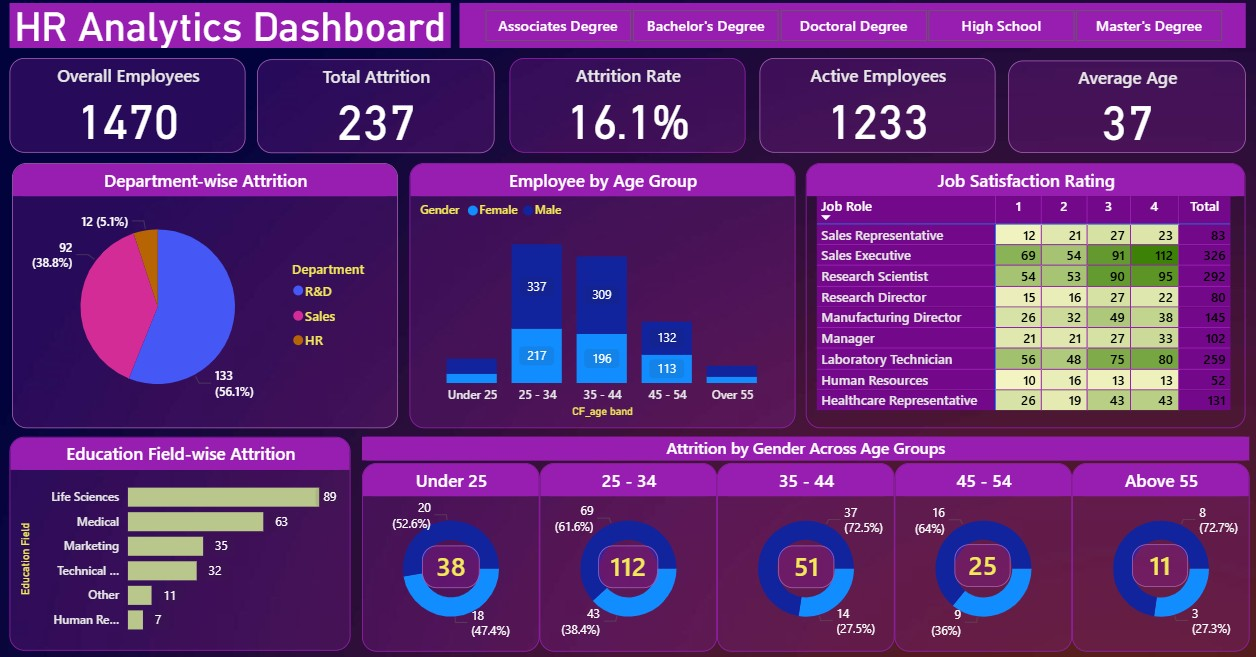

Layout of this report page (visuals, bound fields, positions):
{"tool":"powerbi","page":{"name":"Page 1","canvas":[1280,756],"ordinal":0},"visuals":[{"type":"card","title":"Overall Employees","fields":{"Values":["Sum(HR data.Employee Count)"]},"box":[12.7,101.3,239.4,96.3],"z":0},{"type":"card","title":"Total Attrition","fields":{"Values":["Sum(HR data.Attrition Count)"]},"box":[263.5,102.6,240.7,95],"z":1000},{"type":"card","title":"Attrition Rate","fields":{"Values":["HR data.Attrition Rate"]},"box":[519.4,101.3,239.4,96.3],"z":2000},{"type":"card","title":"Active Employees","fields":{"Values":["HR data.Active Employees"]},"box":[772.7,101.3,239.4,96.3],"z":3000},{"type":"card","title":"Average Age","fields":{"Values":["Avg(HR data.Age)"]},"box":[1024.8,103.9,240.7,93.7],"z":4000},{"type":"pieChart","title":"Department-wise Attrition","fields":{"Category":["HR data.Department"],"Y":["Sum(HR data.Attrition Count)"]},"box":[15.2,207.7,391,268.6],"z":5000},{"type":"columnChart","title":"Employee by Age Group","fields":{"Category":["HR data.CF_age band"],"Y":["Sum(HR data.Employee Count)"],"Series":["HR data.Gender"]},"box":[418,207.7,391,268.6],"z":6000},{"type":"pivotTable","title":"Job Satisfaction Rating","fields":{"Rows":["HR data.Job Role"],"Columns":["HR data.Job Satisfaction"],"Values":["Sum(HR data.Employee Count)"]},"box":[819.6,207.7,445.9,268.6],"z":7000},{"type":"barChart","title":"Education Field-wise Attrition","fields":{"Category":["HR data.Education Field"],"Y":["Sum(HR data.Attrition Count)"]},"box":[12.7,485.2,345.8,216.6],"z":8000},{"type":"donutChart","title":"Under 25","fields":{"Category":["HR data.Gender"],"Y":["Sum(HR data.Attrition Count)"],"Series":["HR data.CF_age band"]},"box":[369.9,511.8,179.9,191.3],"z":9000},{"type":"textbox","title":"Attrition by Gender Across Age Groups","box":[369.9,485.2,899.4,24],"z":10000},{"type":"donutChart","title":"25 - 34","fields":{"Category":["HR data.Gender"],"Y":["Sum(HR data.Attrition Count)"],"Series":["HR data.CF_age band"]},"box":[549.8,511.8,179.9,191.3],"z":11000},{"type":"donutChart","title":"35 - 44","fields":{"Category":["HR data.Gender"],"Y":["Sum(HR data.Attrition Count)"],"Series":["HR data.CF_age band"]},"box":[729.7,511.8,179.9,191.3],"z":12000},{"type":"donutChart","title":"45 - 54","fields":{"Category":["HR data.Gender"],"Y":["Sum(HR data.Attrition Count)"],"Series":["HR data.CF_age band"]},"box":[909.5,511.8,179.9,191.3],"z":13000},{"type":"donutChart","title":"Above 55","fields":{"Category":["HR data.Gender"],"Y":["Sum(HR data.Attrition Count)"],"Series":["HR data.CF_age band"]},"box":[1089.4,511.8,179.9,191.3],"z":14000},{"type":"card","fields":{"Values":["Sum(HR data.Attrition Count)"]},"box":[430.7,595.4,58.3,43.1],"z":15000},{"type":"card","fields":{"Values":["Sum(HR data.Attrition Count)"]},"box":[1150.2,594.1,57,43.1],"z":16000},{"type":"card","fields":{"Values":["Sum(HR data.Attrition Count)"]},"box":[970.3,594.1,57,43.1],"z":17000},{"type":"card","fields":{"Values":["Sum(HR data.Attrition Count)"]},"box":[791.7,595.4,57,43.1],"z":18000},{"type":"card","fields":{"Values":["Sum(HR data.Attrition Count)"]},"box":[609.3,595.4,60.8,43.1],"z":19000},{"type":"textbox","title":"HR Analytics Dashboard","box":[12.7,45.6,447.2,45.6],"z":20000},{"type":"slicer","fields":{"Values":["HR data.Education"]},"box":[468.7,45.6,796.8,45.6],"z":21000}]}

Visuals, with their boxes on the page's 1280x756 design canvas (x1, y1, x2, y2). These are canvas units, not pixel positions in the 1256x657 screenshot, which may show the page scaled, cropped or inside an application window:
"Overall Employees" card: pyautogui.locateOnScreen(13, 101, 252, 198)
"Total Attrition" card: pyautogui.locateOnScreen(264, 103, 504, 198)
"Attrition Rate" card: pyautogui.locateOnScreen(519, 101, 759, 198)
"Active Employees" card: pyautogui.locateOnScreen(773, 101, 1012, 198)
"Average Age" card: pyautogui.locateOnScreen(1025, 104, 1266, 198)
"Department-wise Attrition" pieChart: pyautogui.locateOnScreen(15, 208, 406, 476)
"Employee by Age Group" columnChart: pyautogui.locateOnScreen(418, 208, 809, 476)
"Job Satisfaction Rating" pivotTable: pyautogui.locateOnScreen(820, 208, 1266, 476)
"Education Field-wise Attrition" barChart: pyautogui.locateOnScreen(13, 485, 358, 702)
"Under 25" donutChart: pyautogui.locateOnScreen(370, 512, 550, 703)
"Attrition by Gender Across Age Groups" textbox: pyautogui.locateOnScreen(370, 485, 1269, 509)
"25 - 34" donutChart: pyautogui.locateOnScreen(550, 512, 730, 703)
"35 - 44" donutChart: pyautogui.locateOnScreen(730, 512, 910, 703)
"45 - 54" donutChart: pyautogui.locateOnScreen(910, 512, 1089, 703)
"Above 55" donutChart: pyautogui.locateOnScreen(1089, 512, 1269, 703)
card - Sum(HR data.Attrition Count): pyautogui.locateOnScreen(431, 595, 489, 638)
card - Sum(HR data.Attrition Count): pyautogui.locateOnScreen(1150, 594, 1207, 637)
card - Sum(HR data.Attrition Count): pyautogui.locateOnScreen(970, 594, 1027, 637)
card - Sum(HR data.Attrition Count): pyautogui.locateOnScreen(792, 595, 849, 638)
card - Sum(HR data.Attrition Count): pyautogui.locateOnScreen(609, 595, 670, 638)
"HR Analytics Dashboard" textbox: pyautogui.locateOnScreen(13, 46, 460, 91)
slicer - HR data.Education: pyautogui.locateOnScreen(469, 46, 1266, 91)
